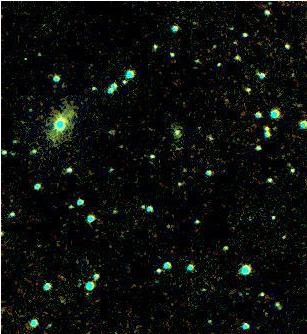star: (174, 96, 204, 126)
